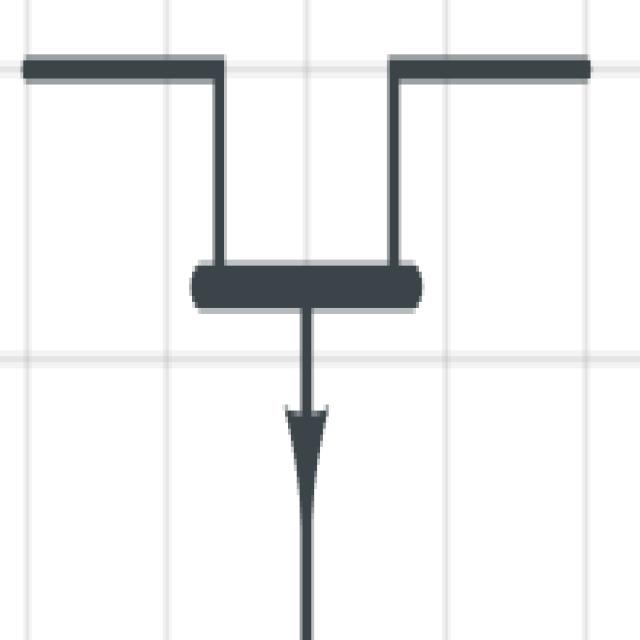nmos: (20, 22, 621, 640)
